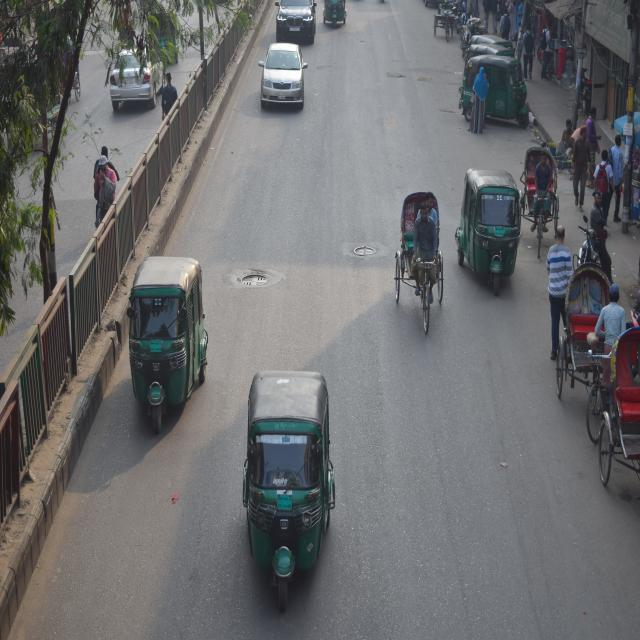car: (251, 40, 316, 132), (109, 30, 153, 114), (268, 0, 325, 43)
